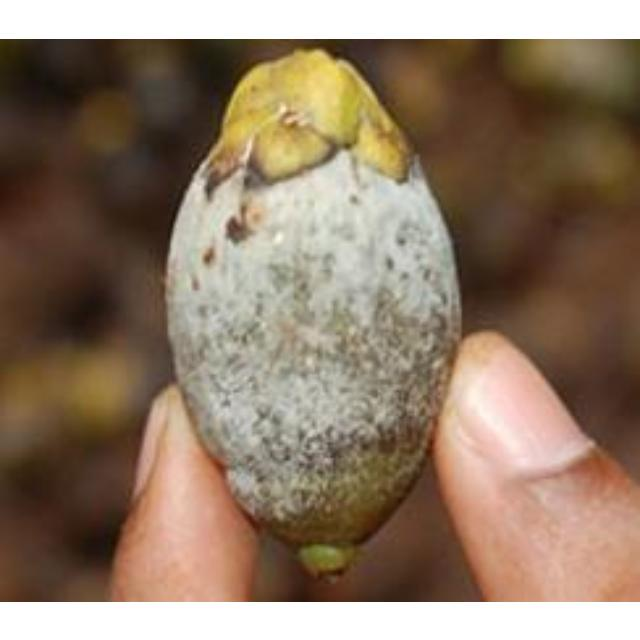damaged: (165, 48, 464, 589)
